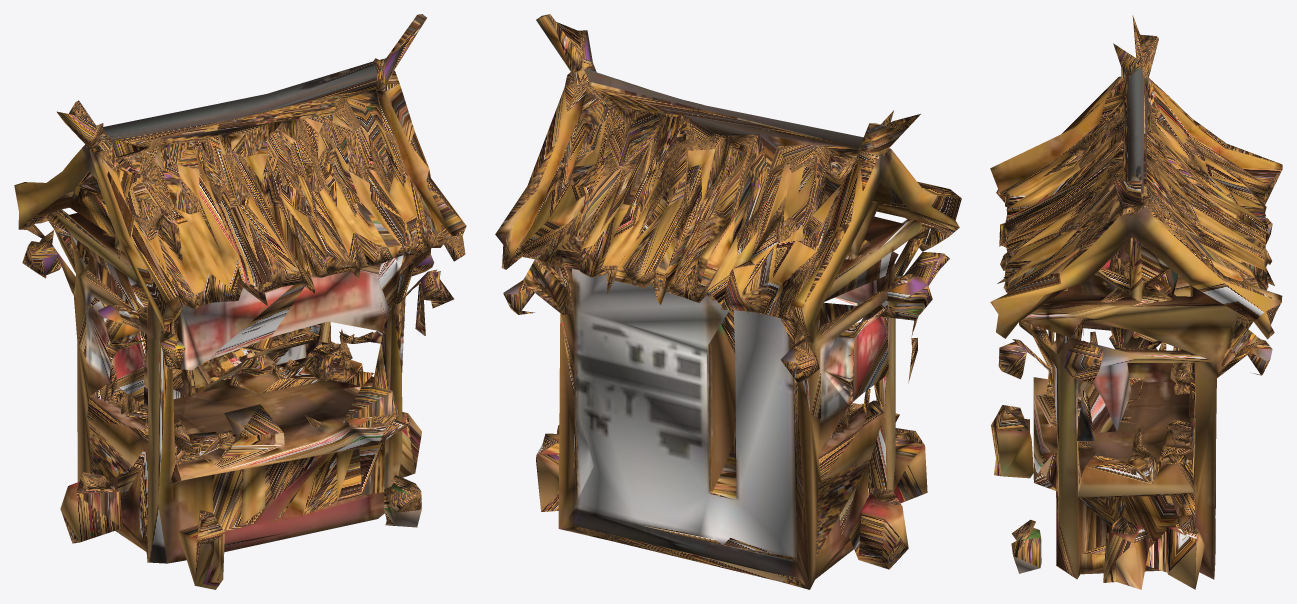
The model's file is bq_lantern_shop.far.glb.
3 renders of one model, left to right at view 1: azimuth 30°, elevation 25°; view 2: azimuth 150°, elevation 25°; view 3: azimuth 270°, elevation 25°, orthographic. The views are drawn at different scales.
Size of the model in its own units: 1.61 by 1.9 by 1.17.
1 material, 1 textured.
